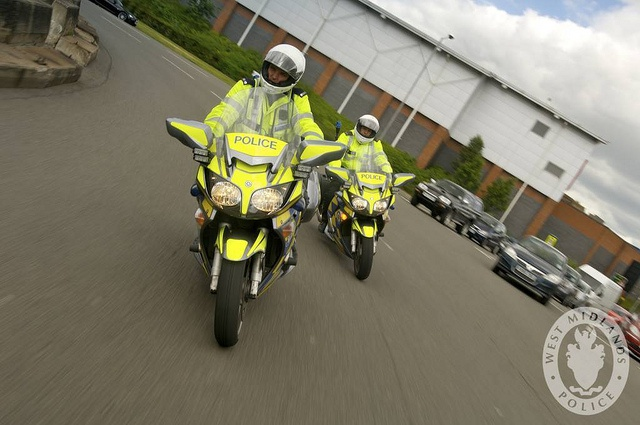non-vehicle: (164, 118, 348, 349), (323, 166, 417, 281)
